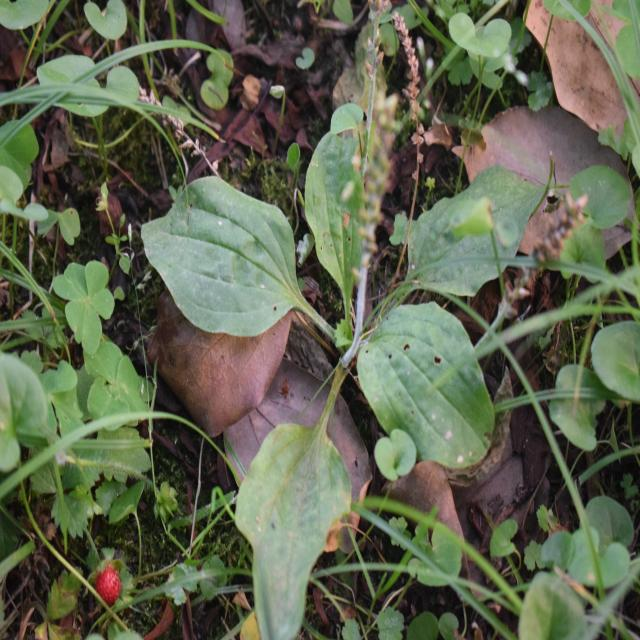plantain: (153, 123, 511, 504)
